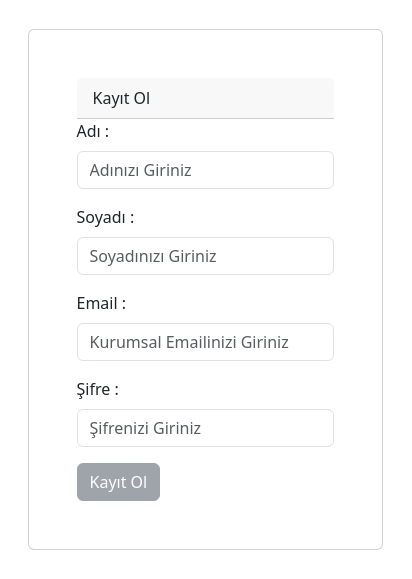
Test case: Register Page › Error Messages › Email input throws error for ilyas@wit.
This screenshot has width=412, height=579.
Type "ilyas@wit." into the field with test id "email-input".
click(206, 342); type("ilyas@wit.")  # box x1=77 y1=323 x2=334 y2=361
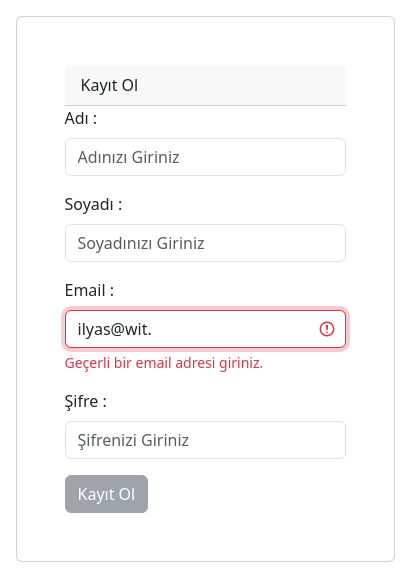
Check: the text "Geçerli bir email adresi giriniz." is shown, box x1=64 y1=353 x2=263 y2=372
